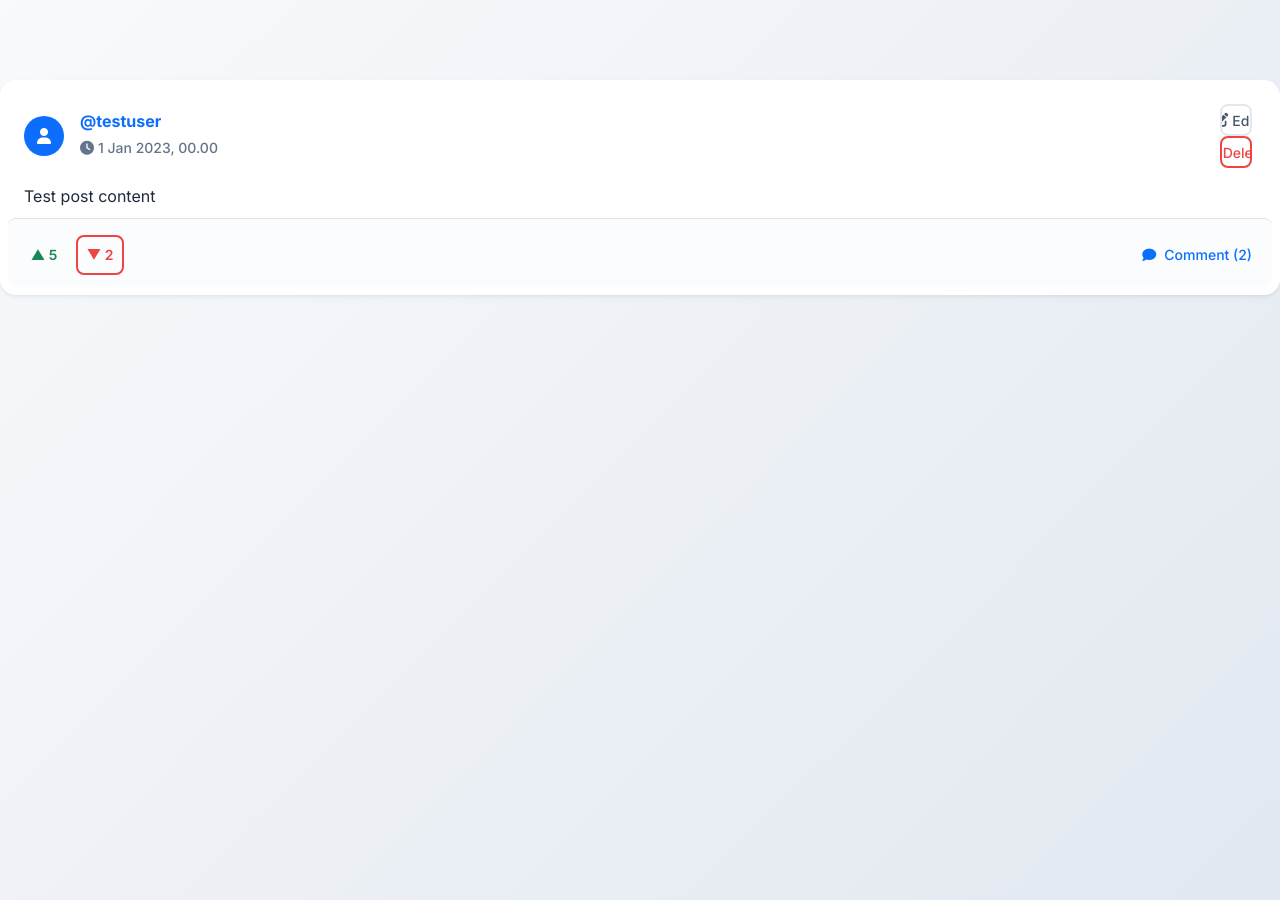
Scenario: PostItem Component › toggles comments visibility
This screenshot has width=1280, height=900.
expect the text "First comment" is not shown: met
Click to show comments
Click the button "Comment (2)" at (1197, 255), box [1134,240,1260,269]
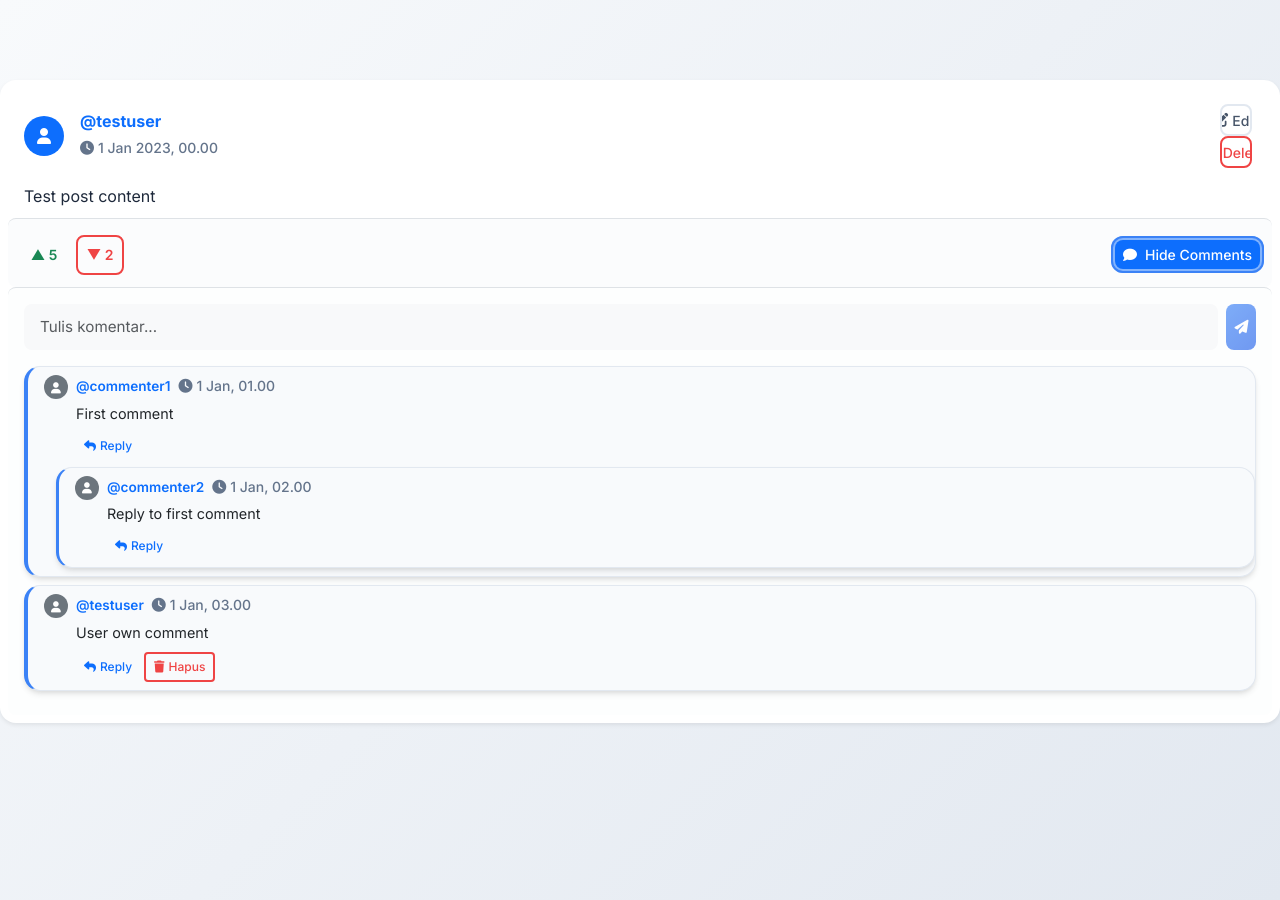
expect the text "First comment" is shown: met, box [76,405,173,422]
expect the text "User own comment" is shown: met, box [76,624,208,641]
Click to hide comments
Click the button "Hide Comments" at (1188, 255), box [1115,240,1260,269]
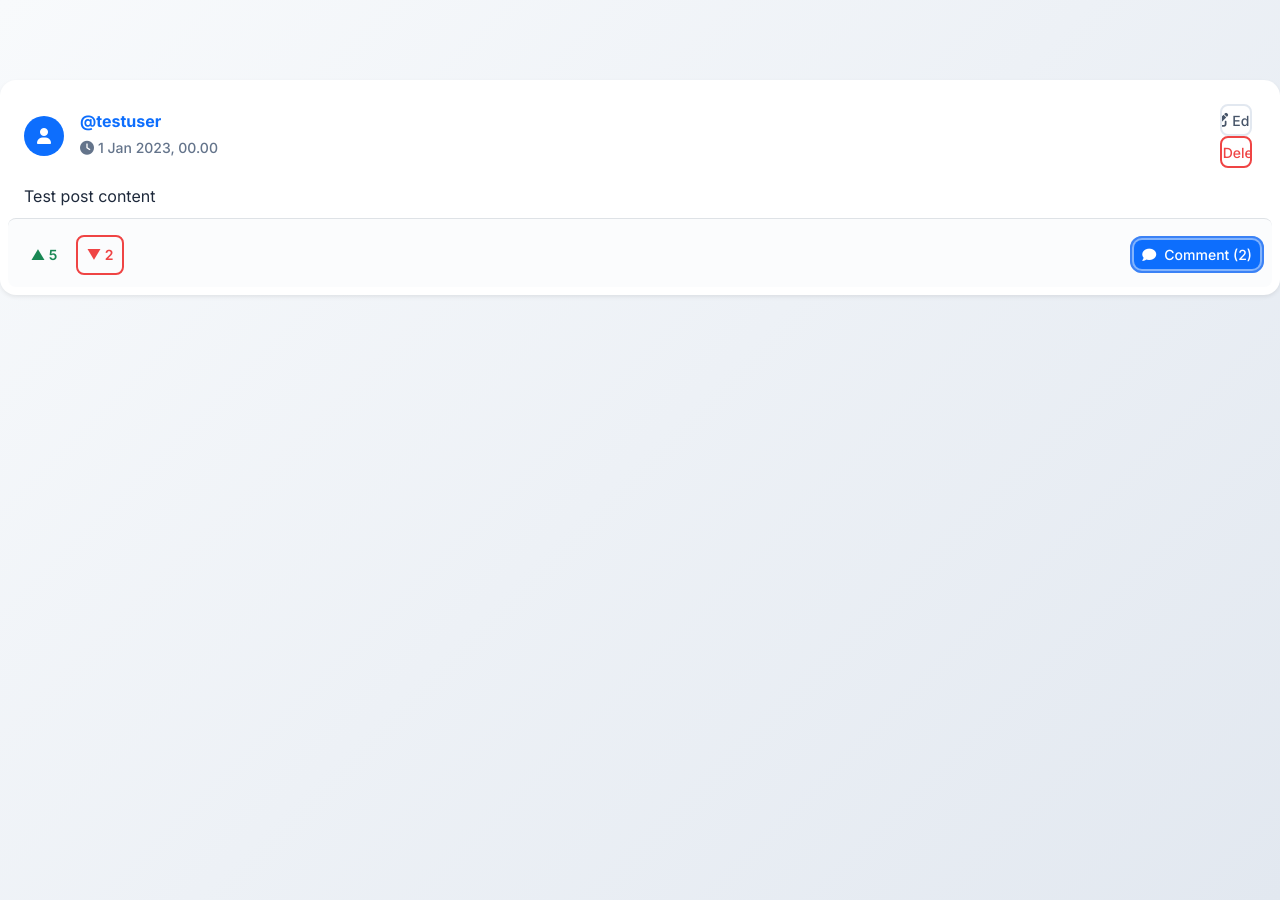
expect the text "First comment" is gone: met
